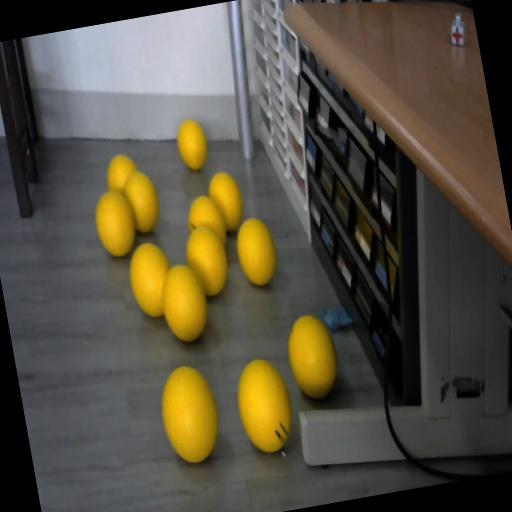FUEL: (152, 360, 224, 466), (230, 353, 298, 455), (282, 310, 342, 402), (155, 260, 213, 346), (180, 220, 234, 300), (230, 212, 281, 288), (90, 186, 140, 260), (120, 168, 164, 236), (205, 170, 247, 234), (174, 116, 210, 172)
